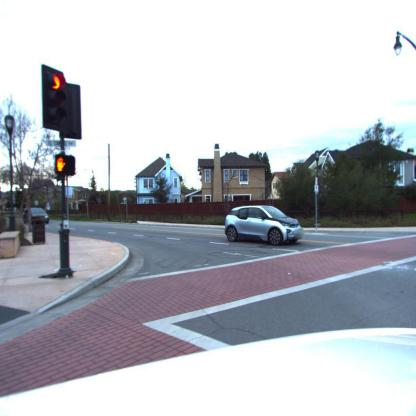car: (224, 204, 302, 244), (30, 208, 50, 226)
traffic light: (41, 67, 77, 137), (56, 154, 76, 173)
